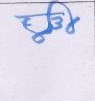i_matra: (53, 1, 79, 34)
